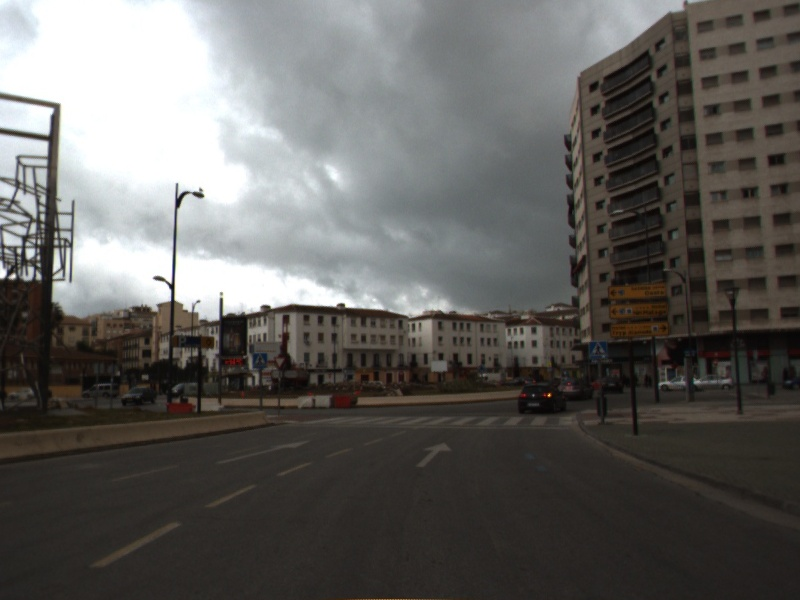STRAIGHT: (213, 438, 313, 466), (413, 440, 454, 469)
